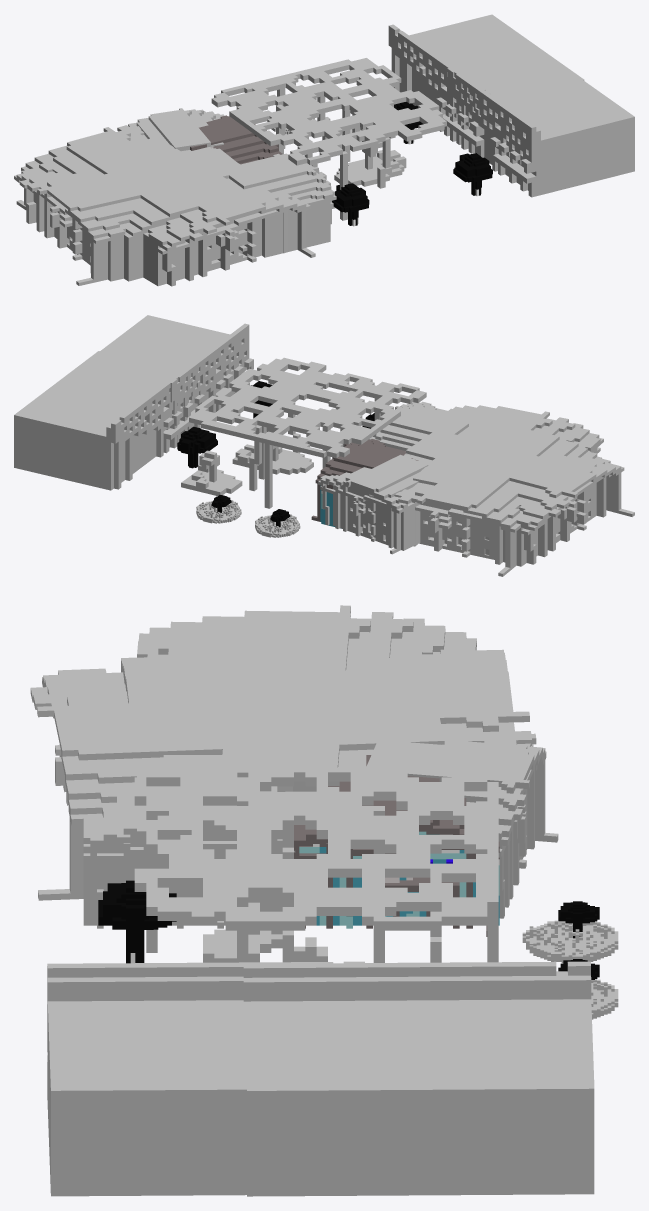
File: centraal.fbx
The picture shows the model from 3 angles, top to bottom: view 1: azimuth 30°, elevation 25°; view 2: azimuth 150°, elevation 25°; view 3: azimuth 270°, elevation 25°; orthographic projection. The views are drawn at different scales.
Parts seen in each view (by area): view 1: Layer.1, Layer.005, Layer.002, Layer.006, Layer.003, Layer.004; view 2: Layer.1, Layer.002, Layer.006, Layer.005, Layer.049, Layer.032, Layer.029; view 3: Layer.1, Layer.006, Layer.005, Layer.002, Layer.029, Layer.004, Layer.030, Layer.032.
Part boxes in pixels (x1=…): Layer.1: x1=14, y1=108, x2=336, y2=286; Layer.005: x1=447, y1=57, x2=634, y2=197; Layer.002: x1=211, y1=58, x2=446, y2=220; Layer.006: x1=388, y1=14, x2=584, y2=157; Layer.003: x1=453, y1=153, x2=492, y2=196; Layer.004: x1=332, y1=183, x2=369, y2=226; Layer.1: x1=311, y1=401, x2=634, y2=576; Layer.002: x1=181, y1=357, x2=426, y2=508; Layer.006: x1=14, y1=351, x2=204, y2=490; Layer.005: x1=71, y1=315, x2=253, y2=448; Layer.049: x1=177, y1=426, x2=217, y2=468; Layer.032: x1=196, y1=500, x2=241, y2=523; Layer.029: x1=255, y1=514, x2=300, y2=537; Layer.1: x1=30, y1=605, x2=558, y2=936; Layer.006: x1=243, y1=961, x2=594, y2=1196; Layer.005: x1=47, y1=961, x2=368, y2=1196; Layer.002: x1=134, y1=767, x2=498, y2=962; Layer.029: x1=522, y1=920, x2=618, y2=963; Layer.004: x1=98, y1=880, x2=176, y2=963; Layer.030: x1=558, y1=901, x2=599, y2=938; Layer.032: x1=591, y1=979, x2=618, y2=1019.
Size of the model in its own units: 13529 by 1824 by 6717.
